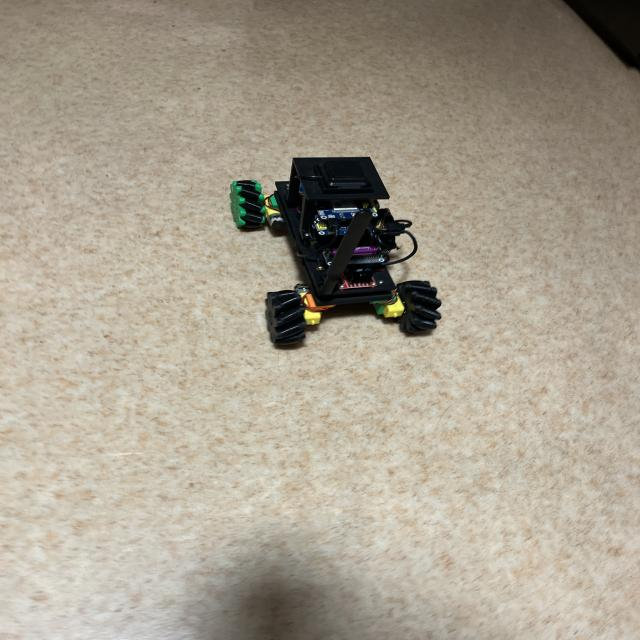robot: (230, 157, 441, 344)
